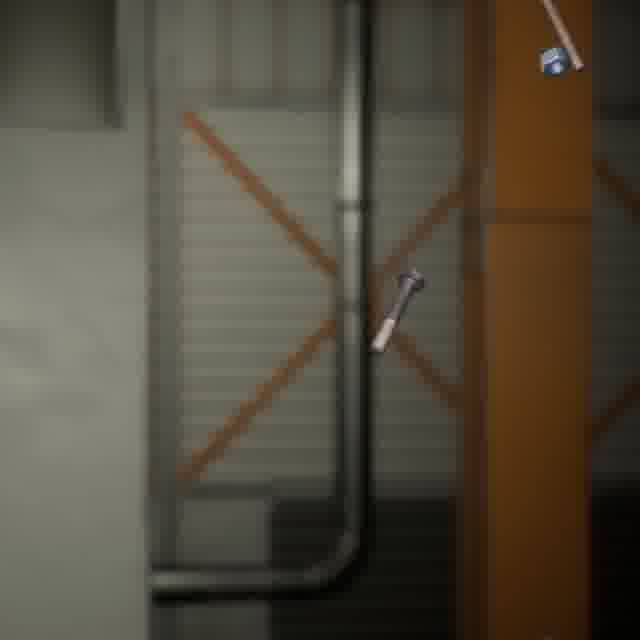bolt: (365, 263, 429, 360), (532, 0, 590, 77)
nut: (535, 43, 575, 81)
